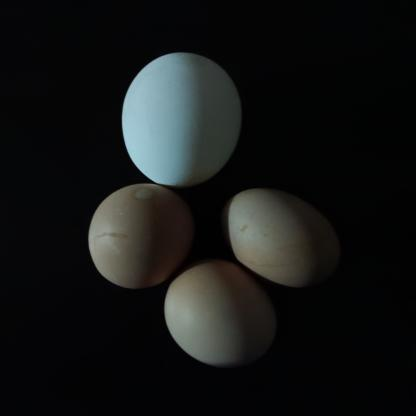egg: (115, 50, 252, 193), (218, 184, 338, 294), (152, 260, 266, 368), (80, 185, 189, 297)
